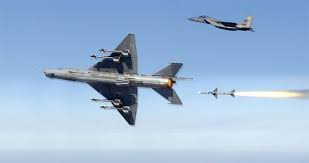maybay_muctieu: (36, 29, 193, 122), (188, 10, 259, 35)
ten_lua: (197, 80, 236, 101), (87, 93, 123, 104), (90, 51, 122, 61), (98, 47, 131, 55)
